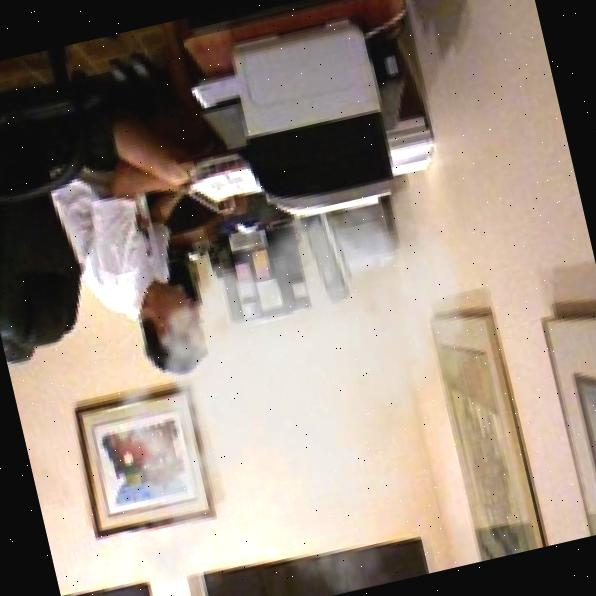smoke: (53, 153, 532, 596)
